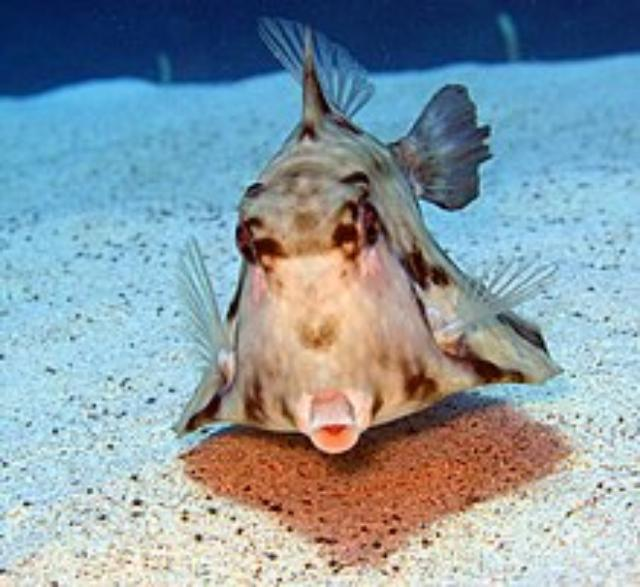Mulut: (267, 364, 403, 494)
Sirip Dada: (134, 226, 258, 454), (420, 232, 564, 374)
Sirip Ekor: (392, 56, 514, 224)
